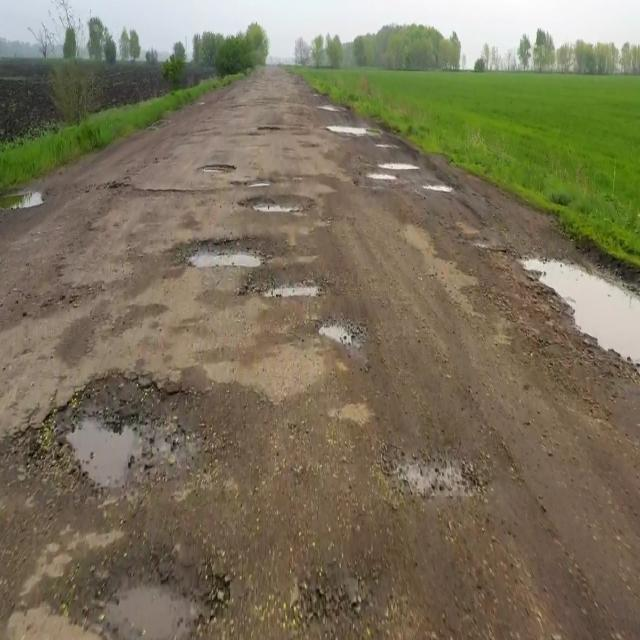road-pothole: (81, 542, 219, 636), (524, 258, 637, 372), (50, 399, 183, 486), (187, 239, 266, 268), (239, 193, 317, 220), (319, 313, 361, 349), (262, 286, 323, 310), (367, 157, 421, 181), (2, 189, 48, 211), (327, 120, 369, 139), (423, 179, 454, 195)
